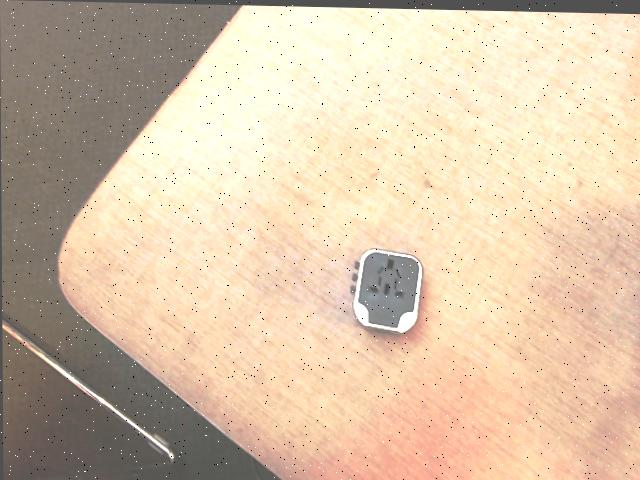adapter: (350, 246, 421, 332)
